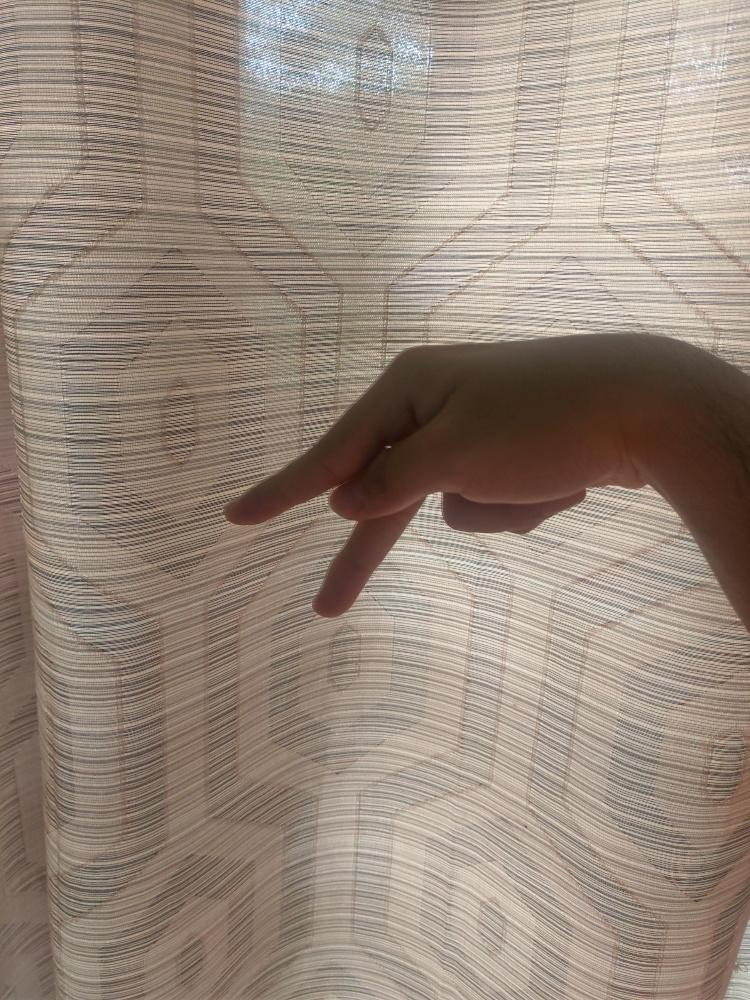p: (219, 326, 655, 620)
